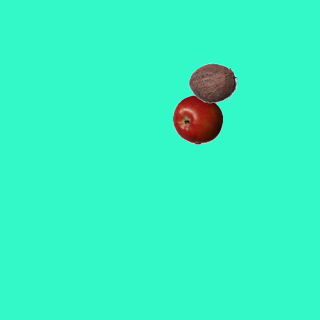Apple Braeburn: (172, 94, 222, 144)
Cocos: (187, 57, 237, 107)
